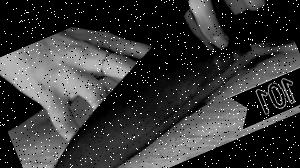knife: (48, 0, 265, 168)
